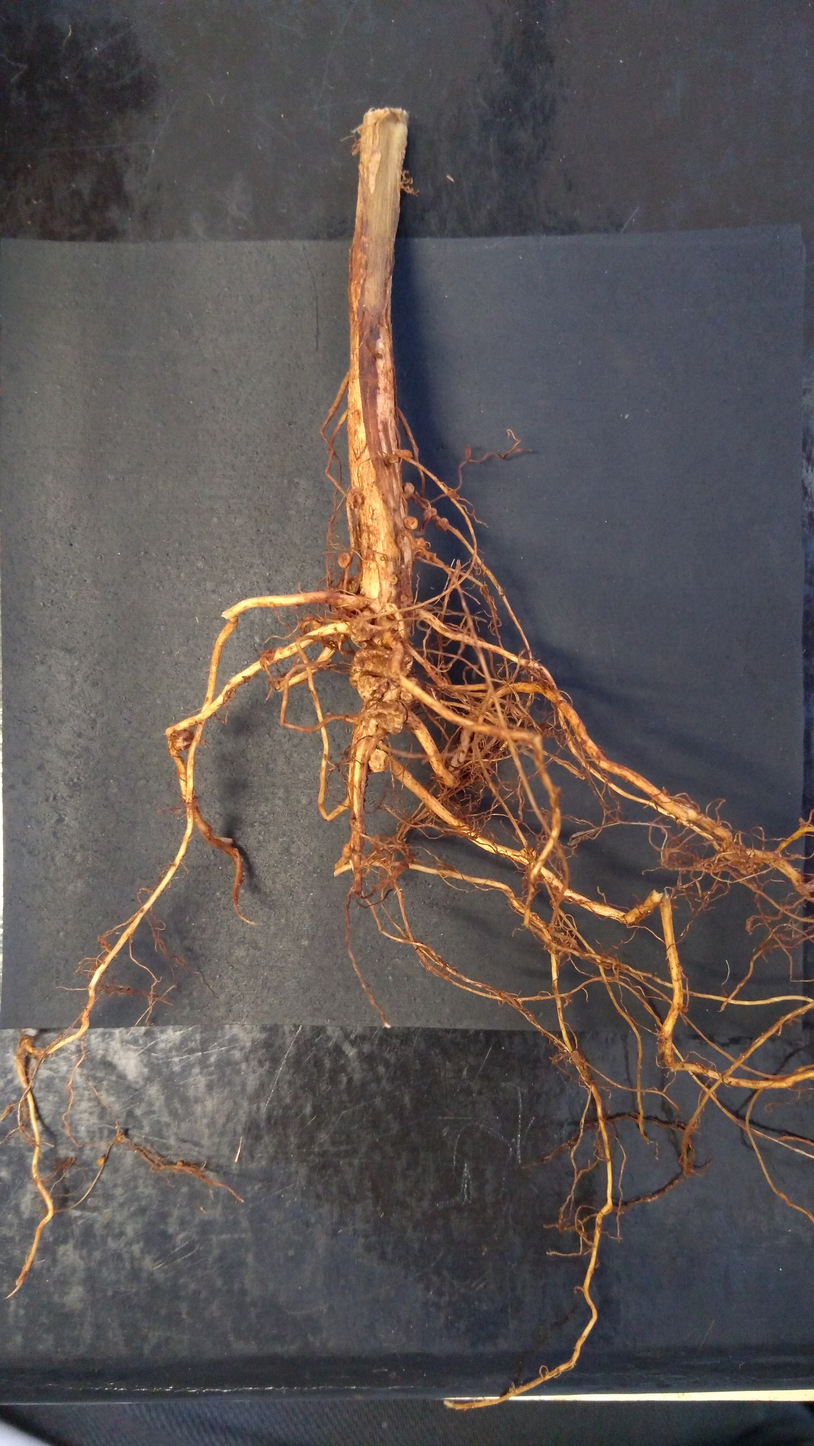nodule: (347, 643, 415, 691), (367, 699, 411, 739), (347, 606, 378, 652), (356, 671, 389, 705), (399, 674, 424, 706), (366, 748, 392, 776), (171, 725, 195, 752), (335, 575, 362, 598), (380, 677, 403, 702), (335, 550, 356, 569), (394, 444, 415, 461), (401, 480, 417, 501), (422, 505, 439, 524), (433, 515, 450, 533), (402, 515, 419, 530), (96, 1153, 107, 1166), (448, 487, 457, 499)
